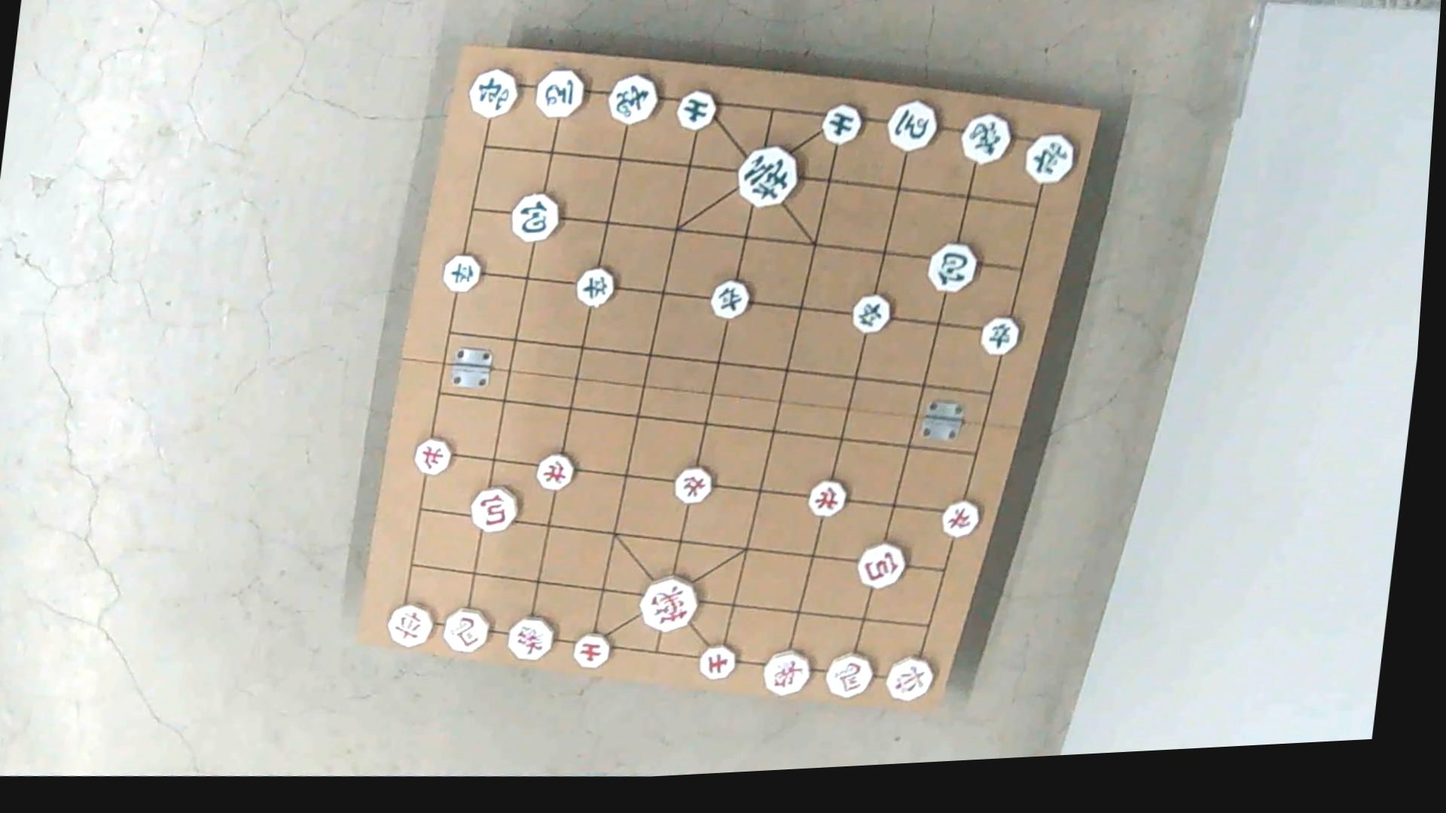cha_green: (1021, 130, 1075, 184), (465, 65, 520, 117)
cha_red: (883, 654, 936, 703), (384, 600, 433, 647)
jol_green: (573, 265, 616, 308), (711, 276, 753, 320), (848, 293, 892, 334), (977, 314, 1020, 355), (441, 255, 482, 296)
jol_red: (673, 463, 715, 504), (805, 478, 847, 518), (938, 498, 980, 537), (534, 451, 574, 491), (415, 434, 456, 473)
ma_green: (882, 99, 936, 152), (534, 67, 587, 118)
ma_red: (823, 650, 874, 698), (438, 607, 489, 654)
po_green: (507, 190, 560, 242), (927, 241, 979, 293)
po_red: (857, 539, 909, 589), (467, 484, 519, 533)
sa_green: (677, 87, 721, 129), (819, 101, 860, 143)
sa_red: (569, 631, 611, 670), (697, 642, 737, 681)
sang_green: (959, 110, 1014, 165), (608, 72, 661, 125)
sang_red: (758, 647, 810, 696), (505, 614, 555, 661)
wang_green: (736, 144, 803, 209)
wang_red: (639, 572, 700, 631)
